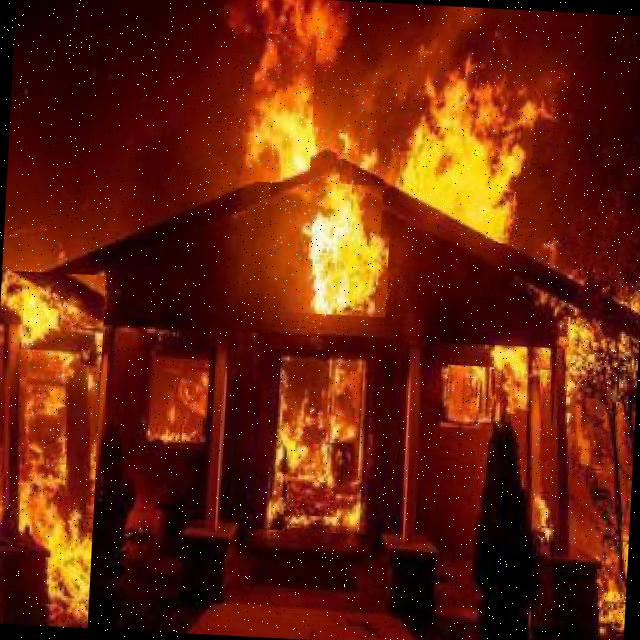fire: (0, 270, 106, 628), (380, 59, 542, 245), (254, 348, 381, 535), (263, 180, 392, 318), (209, 31, 317, 184), (444, 365, 492, 438), (510, 348, 542, 414)
